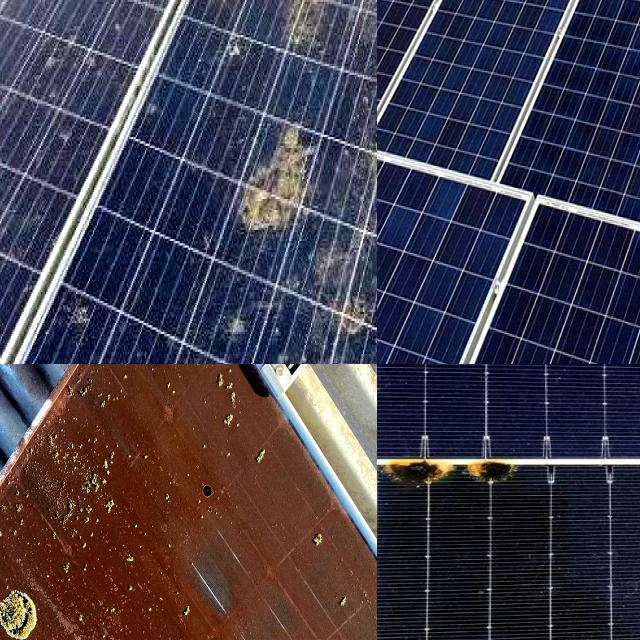bird: (234, 103, 311, 258), (297, 0, 338, 49), (342, 298, 370, 349), (370, 144, 377, 202)
crack: (377, 0, 640, 364), (443, 0, 640, 262), (417, 173, 640, 364), (377, 140, 543, 364), (423, 0, 602, 164)
dust: (48, 535, 202, 640), (216, 430, 292, 640), (114, 364, 219, 483), (43, 397, 108, 564), (297, 575, 377, 640), (0, 526, 39, 640), (0, 580, 16, 640)
shadow: (377, 444, 544, 505)
